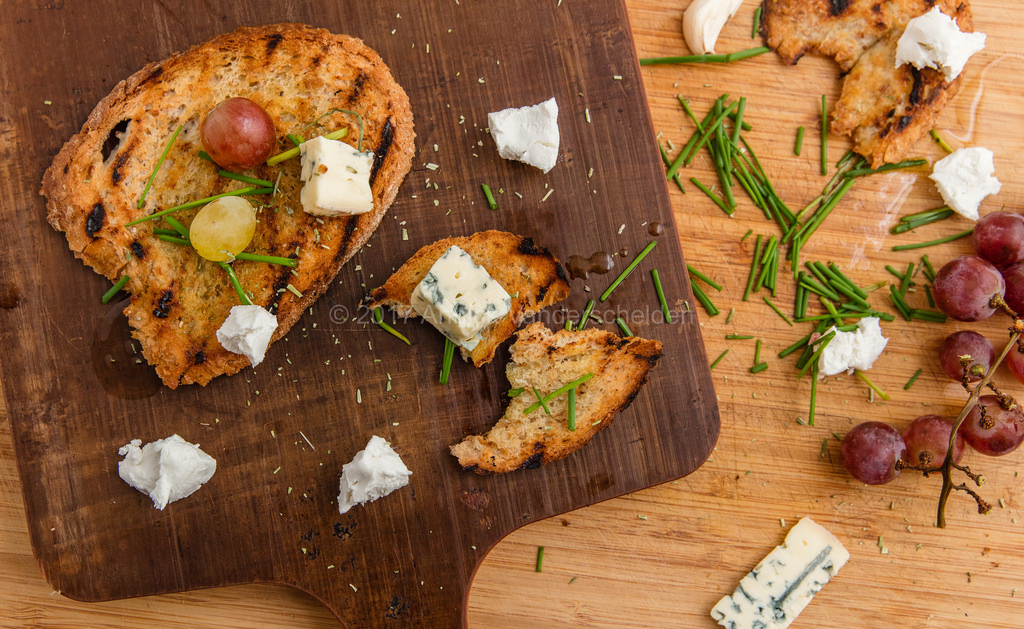slice of bread: (63, 42, 386, 360)
